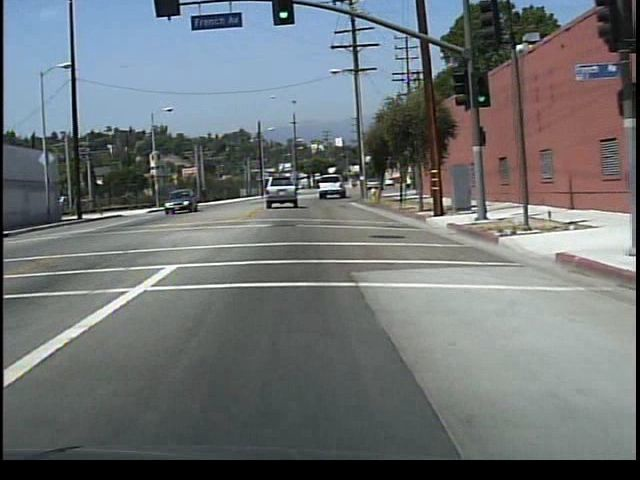person: (201, 182, 212, 206)
